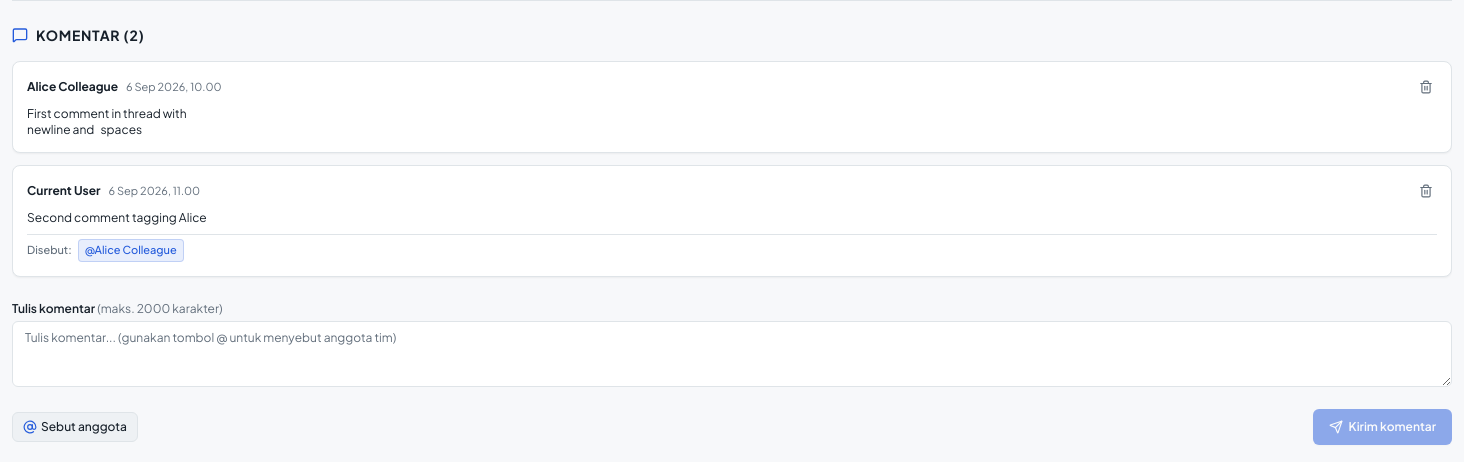
Test: Phase 10 Task 9 — Task Comments & Structured Mentions UX › allows ADMIN to delete any comment
Expected: the text "First comment in thread with newline and spaces" is shown, top-left (27, 106), bottom-right (187, 137)
Click the button named "Hapus komentar oleh Alice Colleague".
click(1426, 87)  # box top-left (1415, 76), bottom-right (1437, 98)
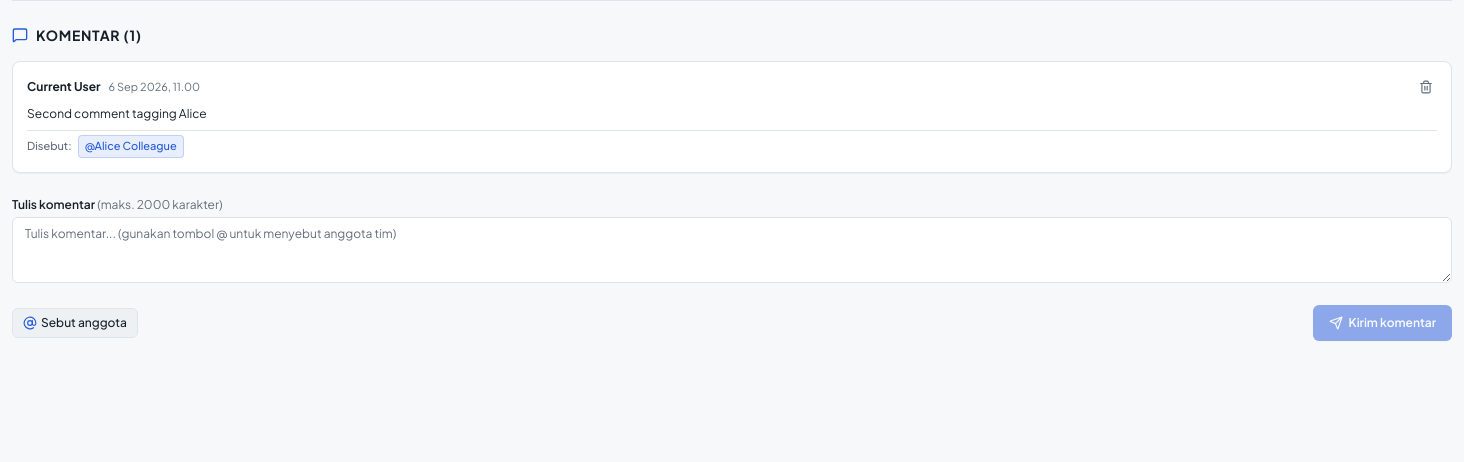
Expected: the text "First comment in thread" is gone
